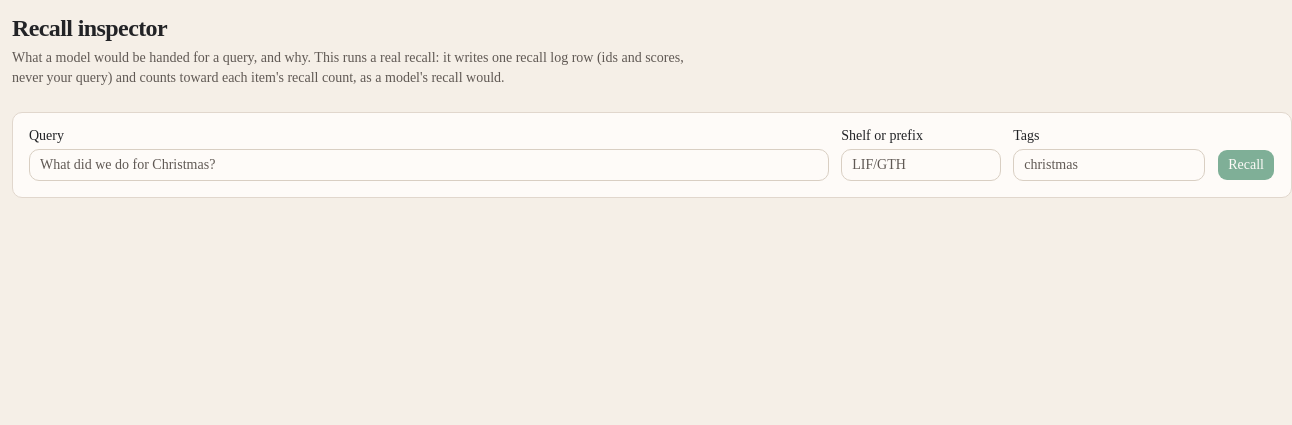
Test: the recall inspector › shows abstention plainly, with exactly what a model would be handed
The width and height of the screenshot is (1292, 425).
Type "submarine telescope" into the field labelled "Query" at (429,165), box left=29, top=149, right=829, bottom=181
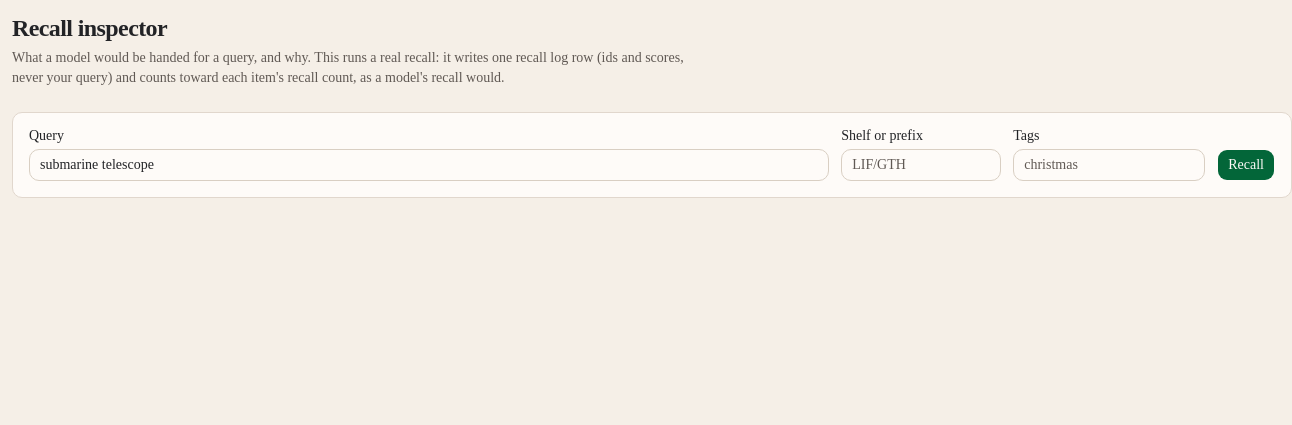
Click the button "Recall" at (1246,165), box left=1217, top=149, right=1275, bottom=181
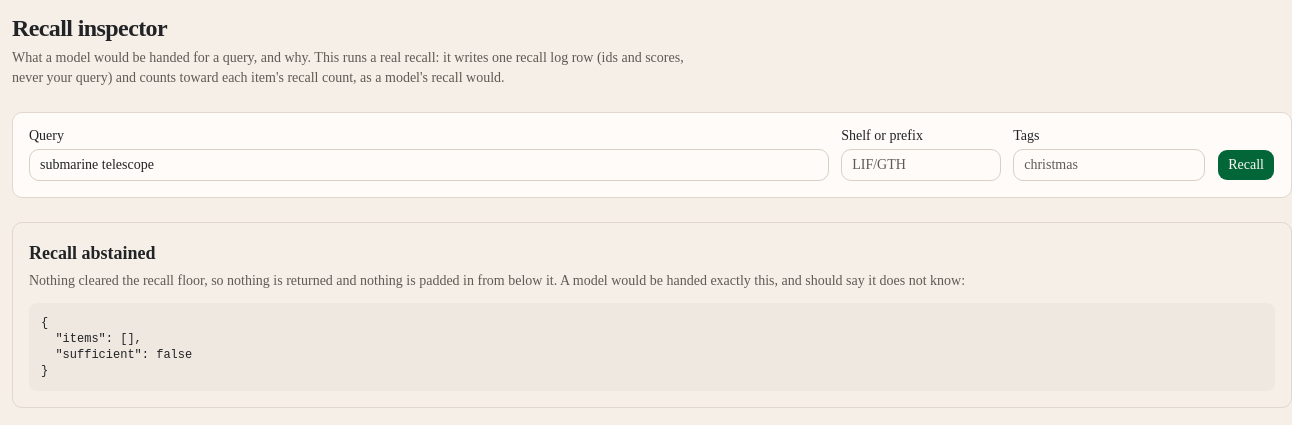
Result: the heading "Recall abstained" is shown at left=29, top=243, right=156, bottom=263
